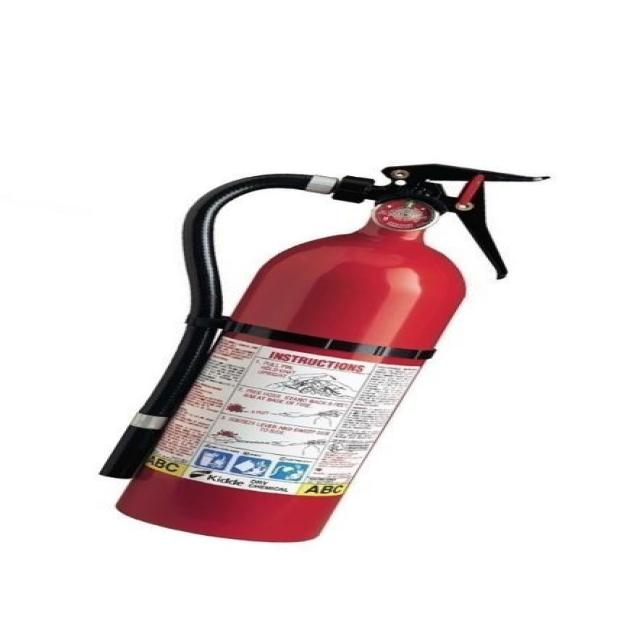fire_extinguisher: (86, 158, 555, 545)
